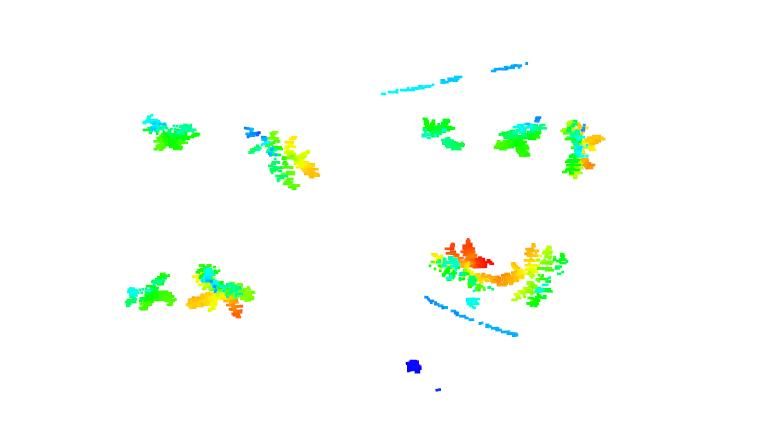chickpea: (496, 239, 572, 315), (242, 120, 323, 191), (428, 233, 495, 309), (184, 261, 257, 322), (555, 116, 608, 182), (490, 113, 554, 161), (140, 108, 200, 156), (122, 270, 180, 314), (418, 112, 471, 154)
